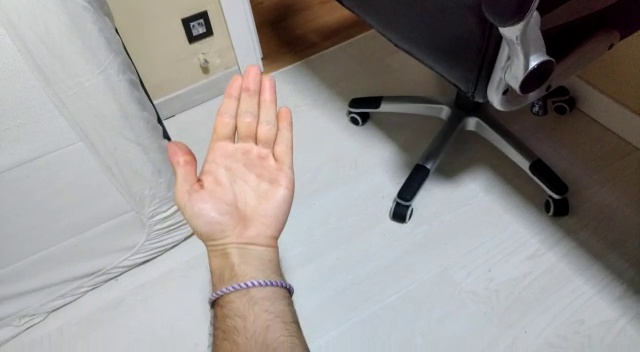Palm: (165, 62, 305, 266)
